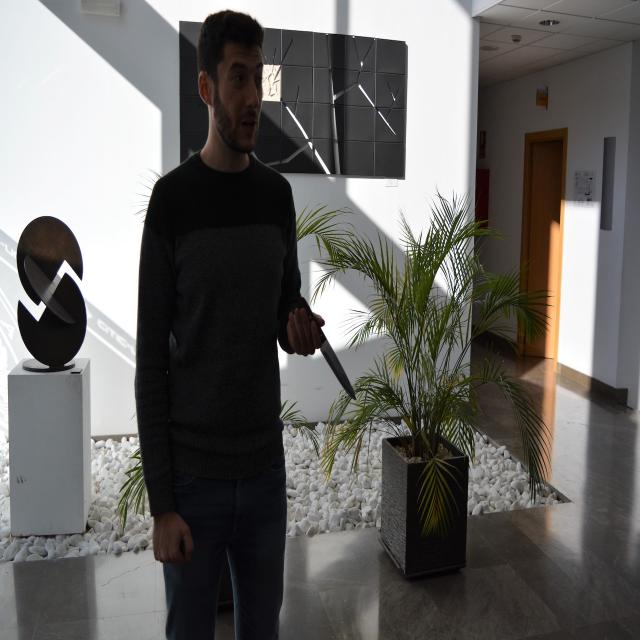knife: (297, 296, 361, 406)
